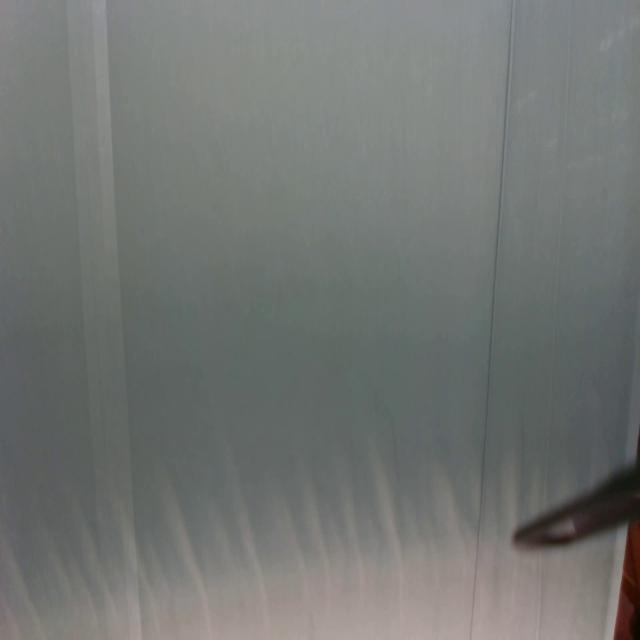crease: (72, 1, 137, 633), (471, 0, 514, 639), (544, 0, 572, 498), (534, 550, 544, 640)
